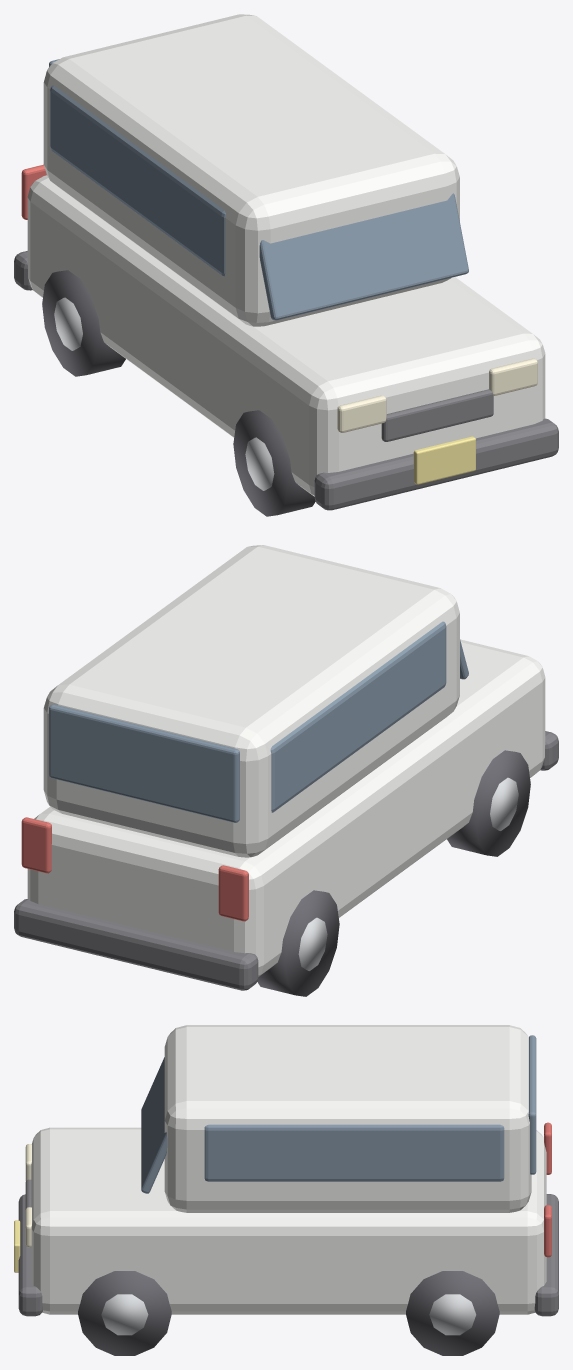
The model's file is kei_car.glb.
3 views of the same model, one above another, from view 1: azimuth 30°, elevation 25°; view 2: azimuth 150°, elevation 25°; view 3: azimuth 270°, elevation 25° (orthographic). The views are drawn at different scales.
Parts seen in each view (by area): view 1: kei_car; view 2: kei_car; view 3: kei_car.
Part boxes in pixels (left/top/right/bottom): kei_car: left=14, top=14, right=558, bottom=516; kei_car: left=14, top=545, right=558, bottom=996; kei_car: left=14, top=1025, right=558, bottom=1355.
Bounding box in the file's own units: 1.56 × 1.7 × 3.49.
